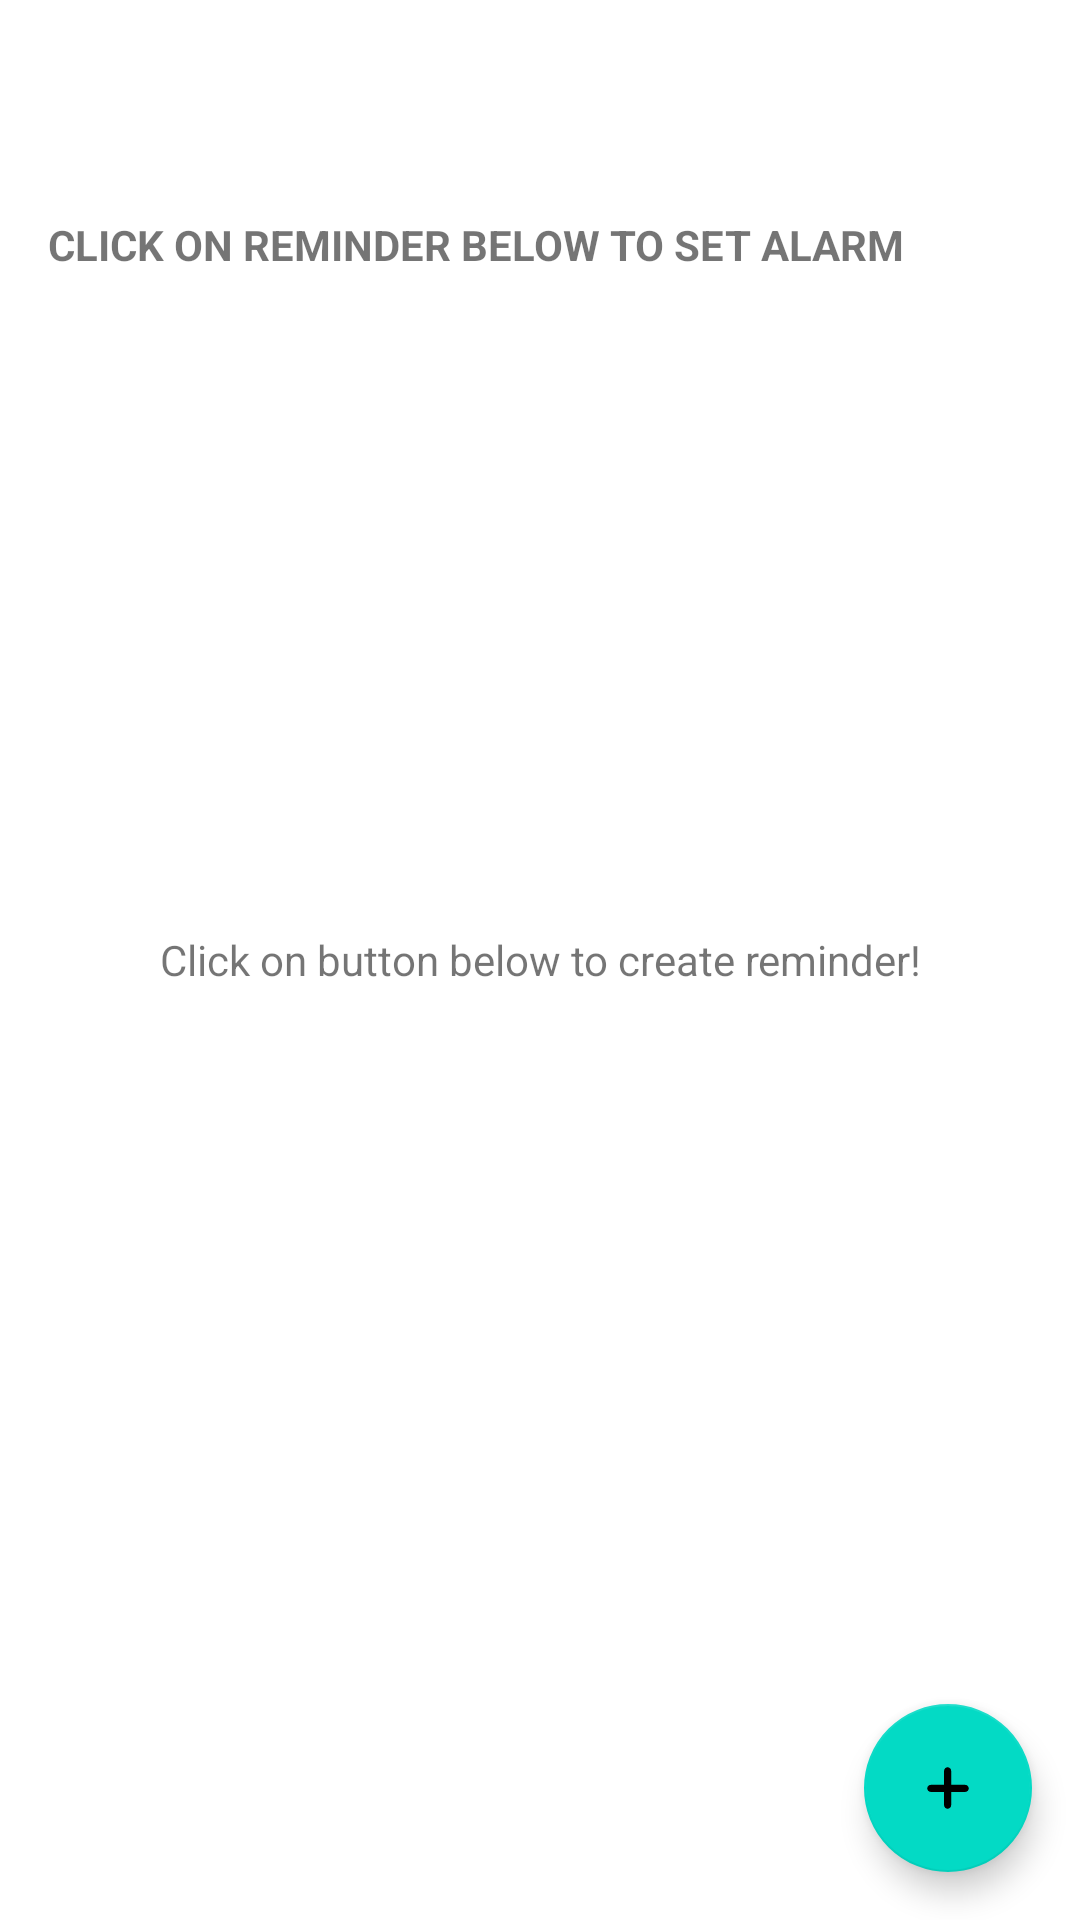

Icons on this 1080w x 1920h Android screen, each with the point to tap as [x,y]:
plus: [948,1788]
